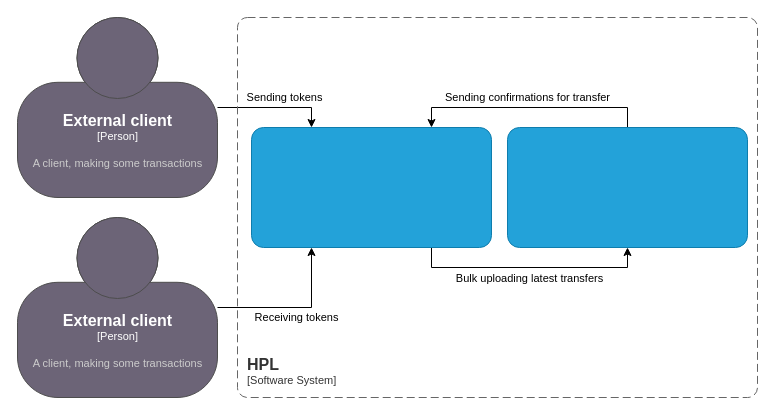
Image size: 775x415. Some labels were removed from this diagram. The box of each missing label's shape, as (x1, y1, x2, y2) in pixels:
Aggregator [Container: IC Canister] The main container of transactions: (250, 126, 492, 248)
Ledger [Container: IC Canister] The main container of transactions: (506, 126, 748, 248)
